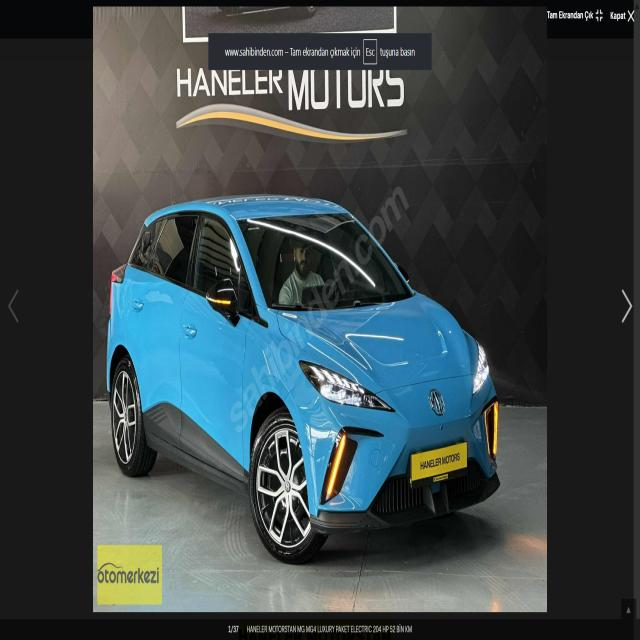mg: (423, 381, 453, 419)
